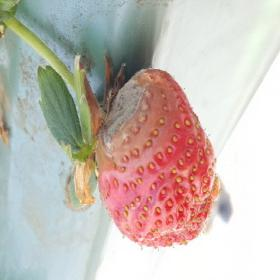Gray Mold: (95, 63, 156, 159)
